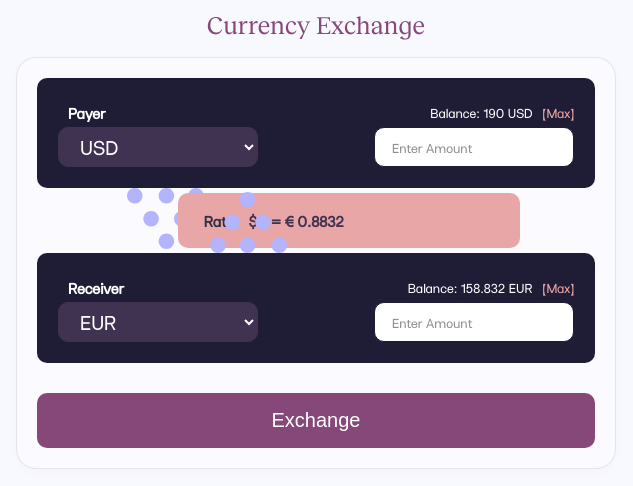
should change balance when wallet change and Get new rate based on wallet
The width and height of the screenshot is (633, 486).
Check: the text "$ 1 = € 0.8832" is shown, box x1=248 y1=212 x2=344 y2=230
// change Wallet
Select "GBP" in the dropdown labelled "Payer" at (158, 147), box x1=58 y1=127 x2=258 y2=167
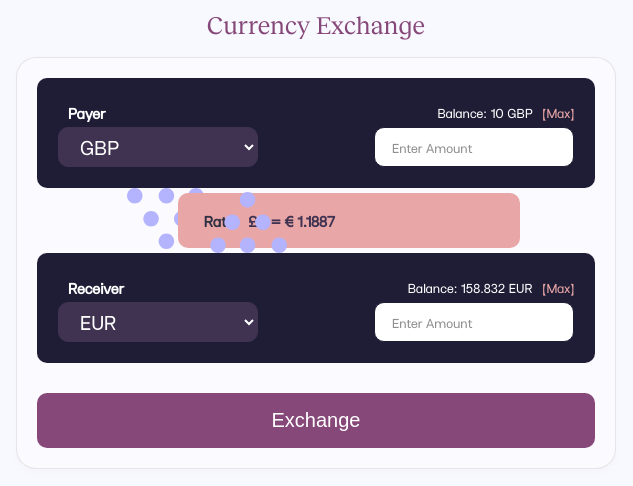
Check: the text "£ 1 = € 1.1887" is shown, box x1=248 y1=212 x2=335 y2=230
